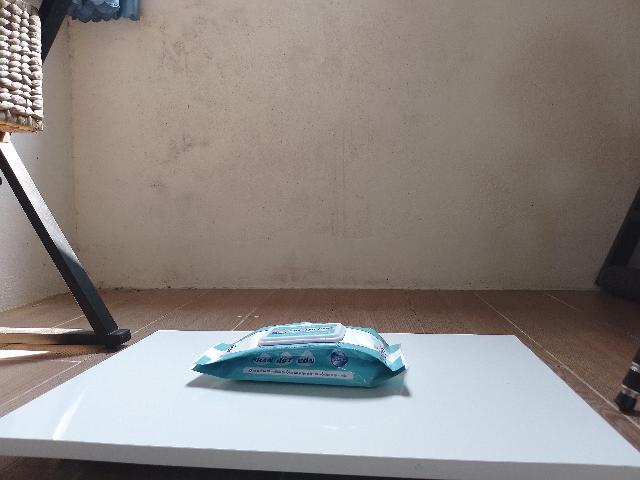Let-green_alcohol_wipes: (191, 322, 407, 388)
